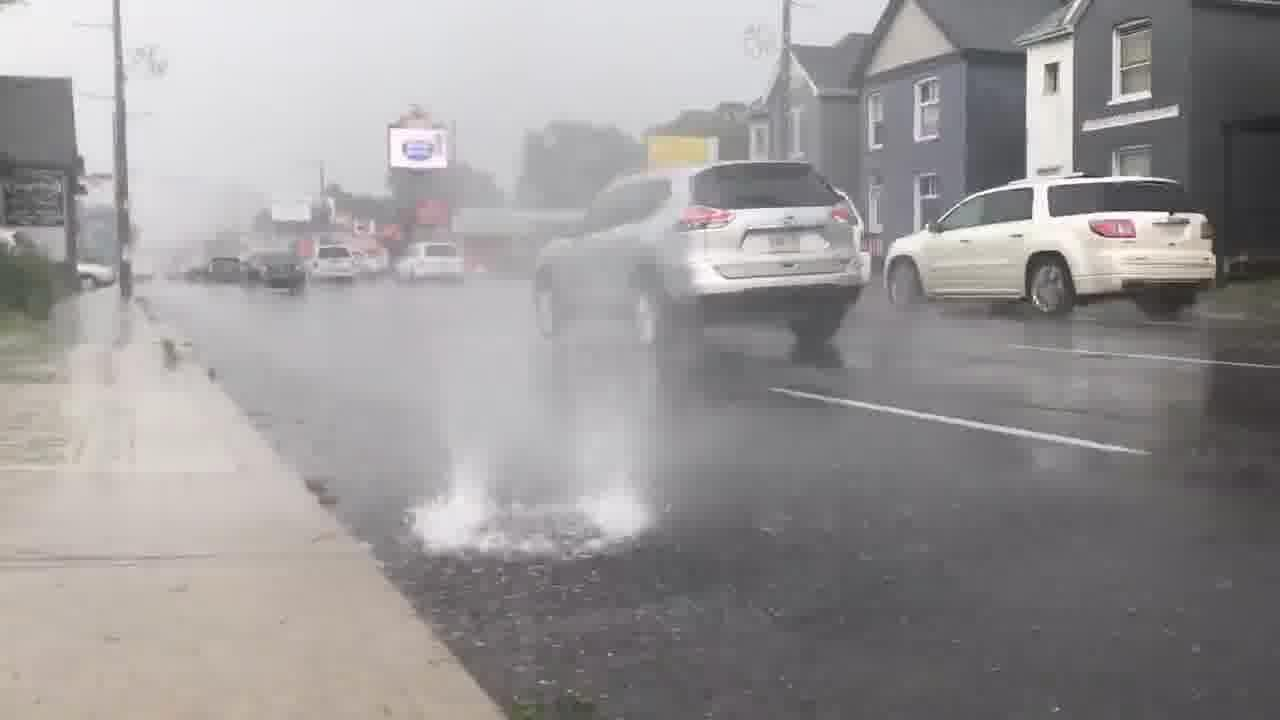drainage overflow-repair-: (346, 394, 713, 575)
